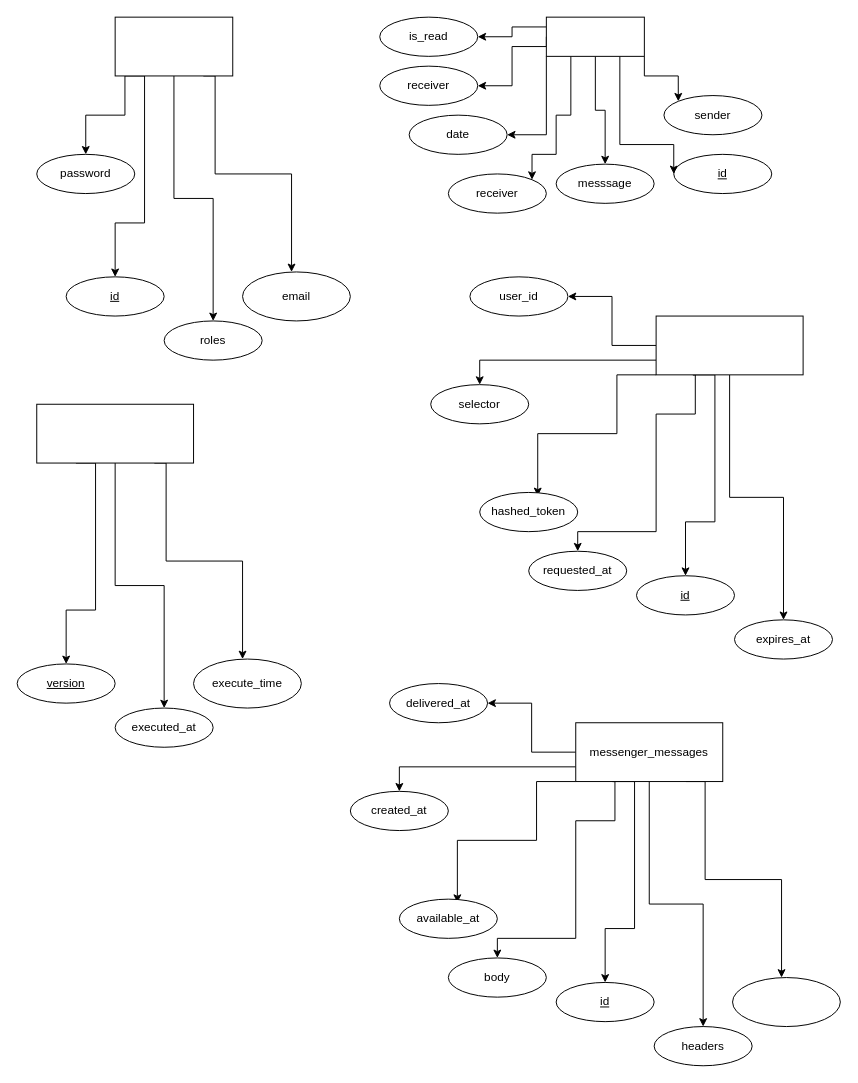
This 858x1083 diagram has some shape labels left out. Here are the shapes that lost their labels. From the top down, the box of each, then its label:
(114, 16, 233, 76): User
(545, 16, 644, 56): Message
(655, 315, 803, 375): reset_password_request
(36, 403, 194, 463): doctrine_migration_versions
(732, 977, 840, 1027): queue_name
